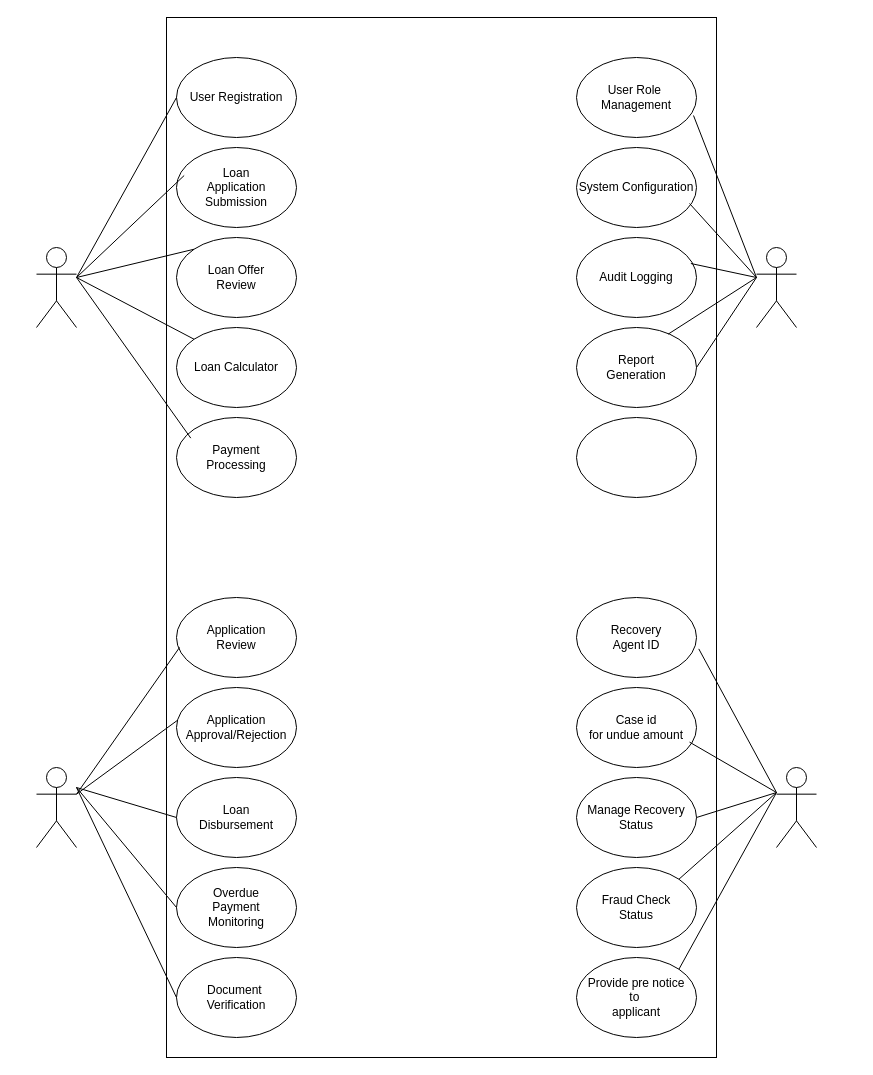
This 873x1075 diagram has some shape labels left out. The shapes that lost their labels are listed below. From the top down, each one's centre as x and y in pixels, then its label:
[56,287]: Loan Applicant
[776,287]: System Administrators
[636,457]: Data Backup And Recovery
[56,807]: Loan Officers
[796,807]: Collectors/Recoverres
